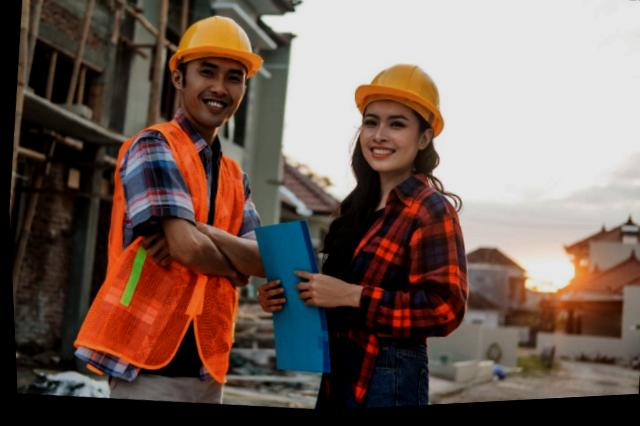helmet: (143, 2, 271, 77), (346, 63, 464, 131)
vest: (69, 128, 262, 387)
